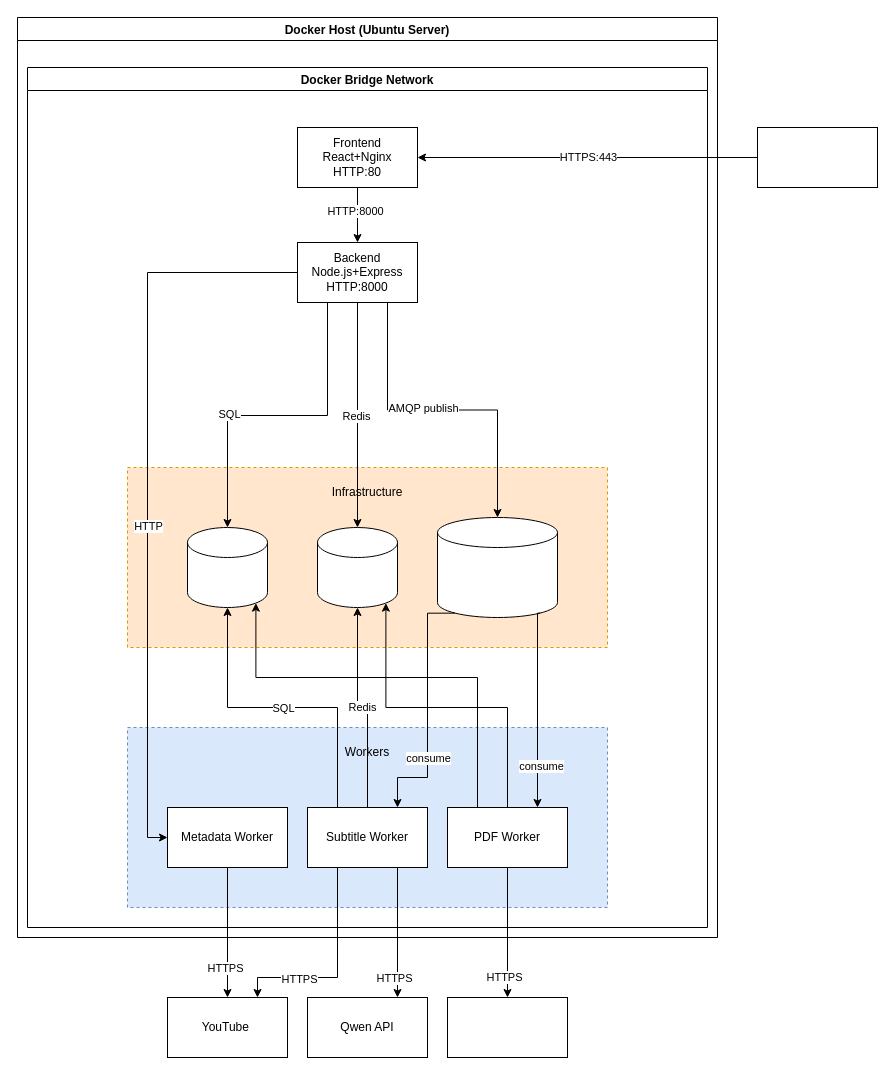
Image size: 895x1075. Some labels were removed from this diagram. The shapes that lost their labels are listed below. From the top down, each one's centre as x and y in pixels, then its label:
At point 817,157: "User Web Browser".
At point 227,567: "PostgreSQL TCP:5432".
At point 357,567: "Redis TCP:6379".
At point 497,567: "RabbitMQ AMQP:5672 Management:15672".
At point 507,1027: "PDF Service".
